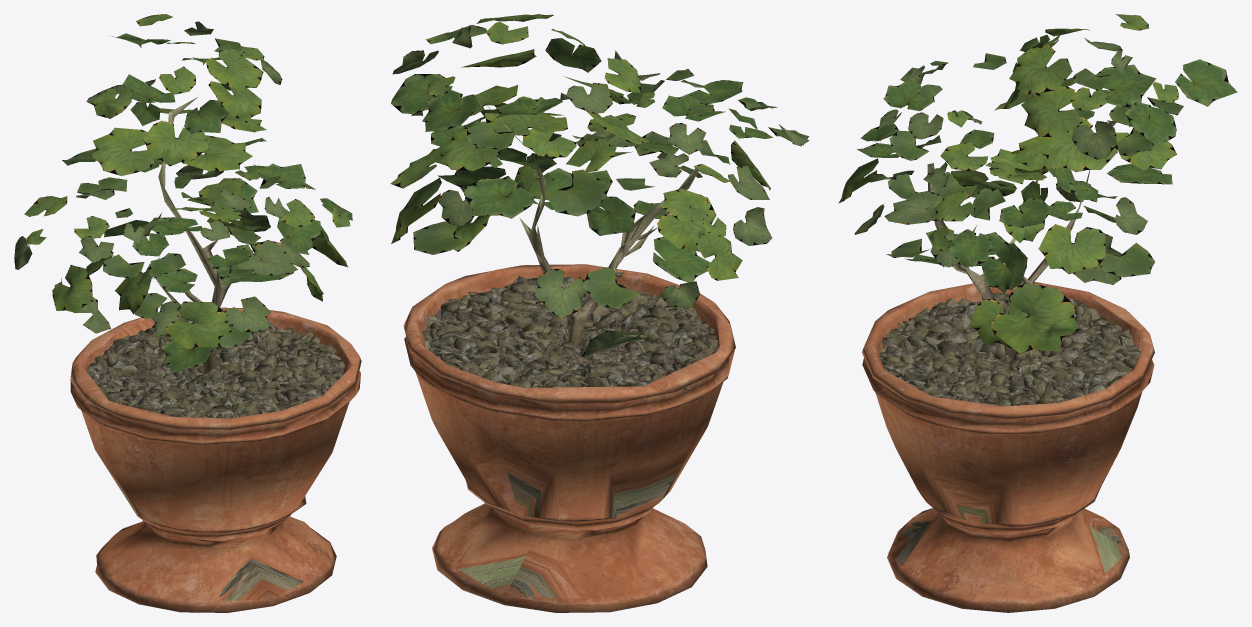
The model's file is potted_plant_01_lod1.glb.
3 renders of one model, left to right at view 1: azimuth 30°, elevation 25°; view 2: azimuth 150°, elevation 25°; view 3: azimuth 270°, elevation 25°, orthographic. The views are drawn at different scales.
Parts seen in each view (by area): view 1: potted_plant_01_pot, potted_plant_01_leaves, potted_plant_01_pebbles, potted_plant_01_stem; view 2: potted_plant_01_pot, potted_plant_01_leaves, potted_plant_01_pebbles, potted_plant_01_stem; view 3: potted_plant_01_pot, potted_plant_01_leaves, potted_plant_01_pebbles, potted_plant_01_stem.
Part boxes in pixels (x1,y1,x2,y2): potted_plant_01_pot: (70, 307, 361, 612); potted_plant_01_leaves: (14, 14, 352, 372); potted_plant_01_pebbles: (79, 320, 344, 427); potted_plant_01_stem: (110, 97, 230, 373); potted_plant_01_pot: (403, 264, 735, 612); potted_plant_01_leaves: (390, 14, 809, 357); potted_plant_01_pebbles: (422, 276, 717, 393); potted_plant_01_stem: (485, 103, 698, 345); potted_plant_01_pot: (862, 282, 1154, 612); potted_plant_01_leaves: (838, 14, 1237, 353); potted_plant_01_pebbles: (879, 292, 1141, 406); potted_plant_01_stem: (927, 120, 1116, 358).
Bounding box in the file's own units: 0.3995 × 0.5932 × 0.4.
Materials: 2 (2 with a texture image).
